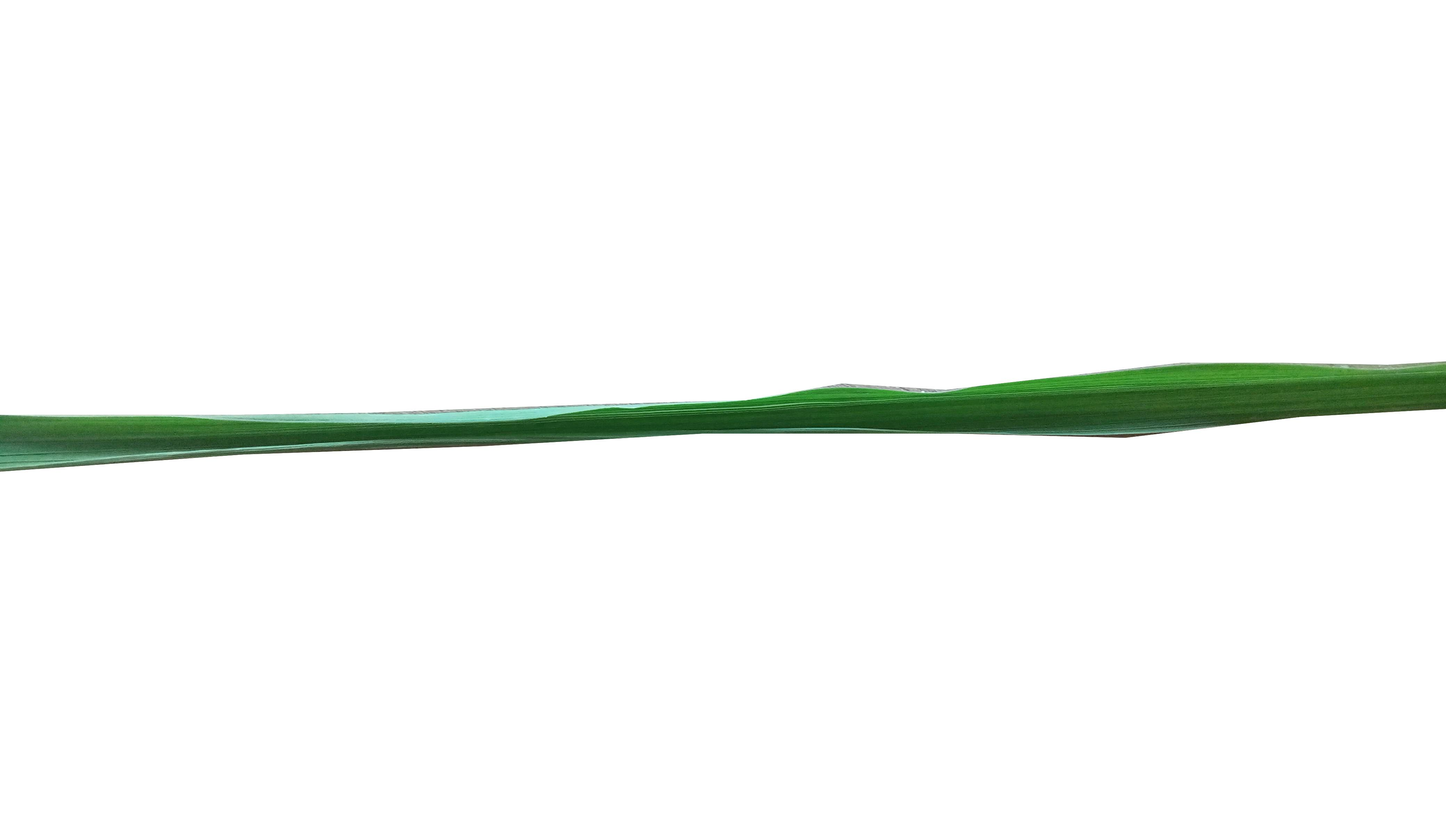Healthy: (0, 361, 1446, 472)
